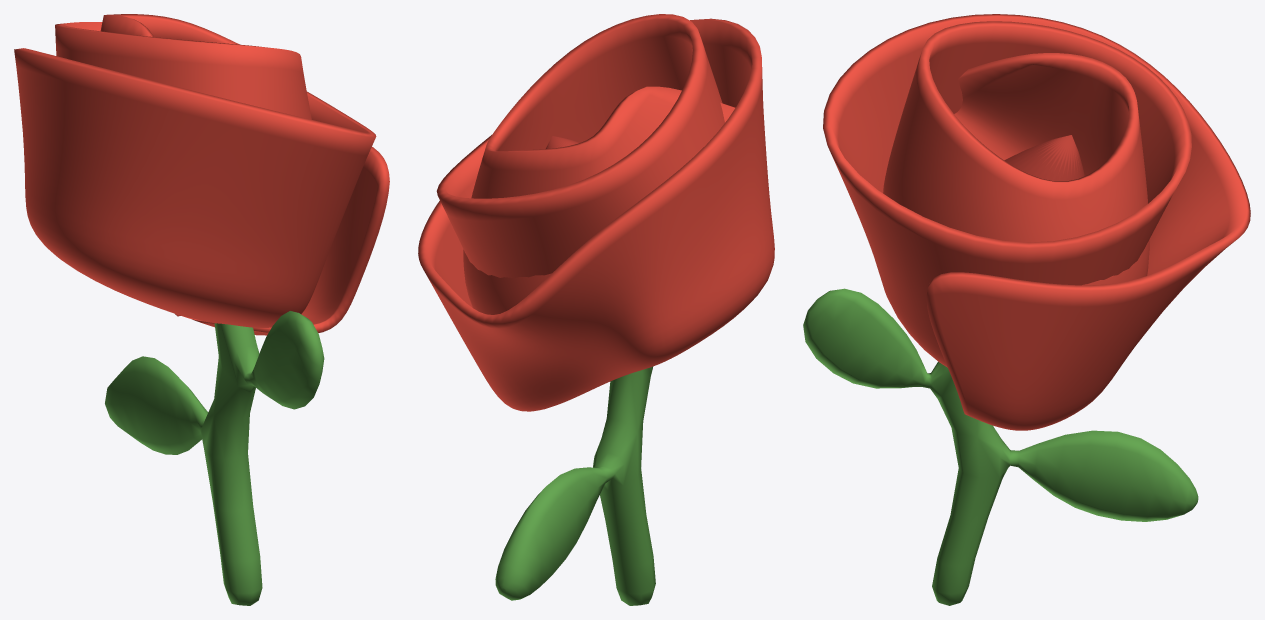
File: Rose 1.fbx
The picture shows the model from 3 angles, left to right: view 1: azimuth 30°, elevation 25°; view 2: azimuth 150°, elevation 25°; view 3: azimuth 270°, elevation 25°; orthographic projection. The views are drawn at different scales.
Parts seen in each view (by area): view 1: Rose; view 2: Rose; view 3: Rose.
Boxes of the visible parts, <box> form: Rose: <box>14,14,389,605</box>; Rose: <box>418,14,774,605</box>; Rose: <box>803,14,1250,605</box>.
Bounding box in the file's own units: 224 × 421 × 310.
